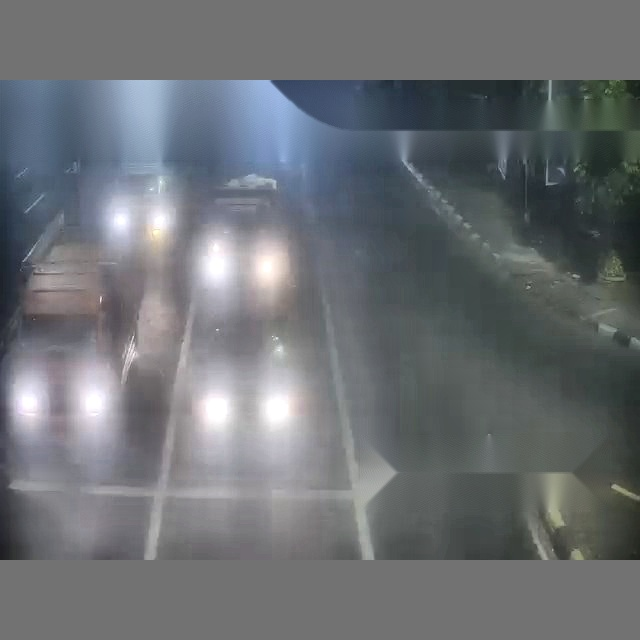Motor: (253, 240, 290, 320)
